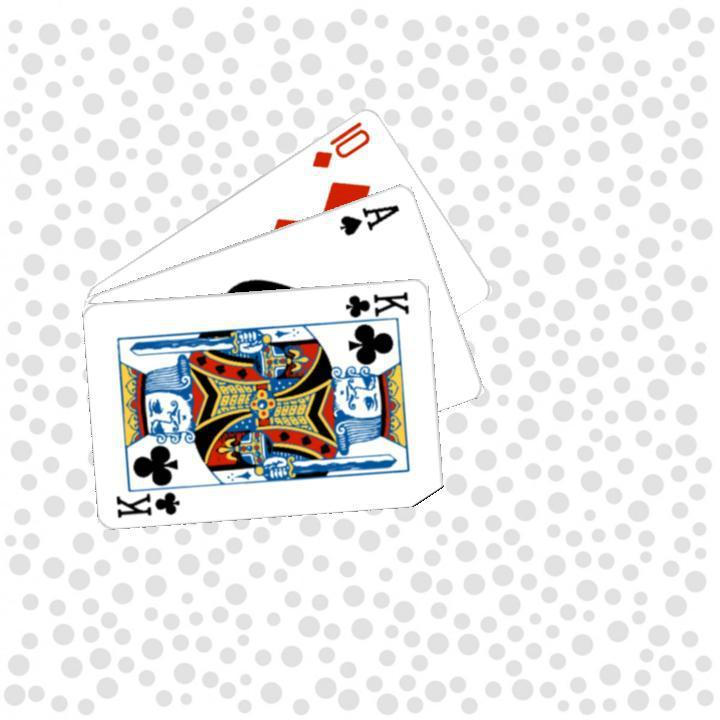10: (307, 116, 373, 170)
A: (335, 199, 402, 237)
K: (112, 479, 189, 519), (336, 287, 411, 326)
